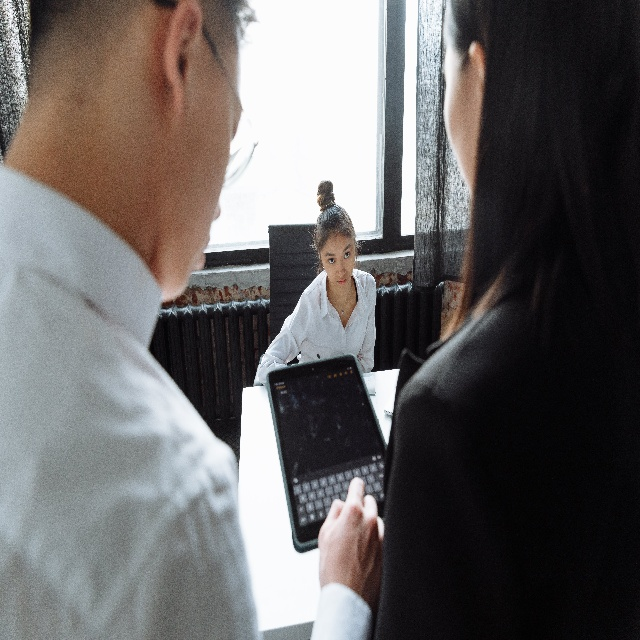Gafas: (201, 28, 246, 144)
Sin_guantes: (317, 477, 385, 615)
